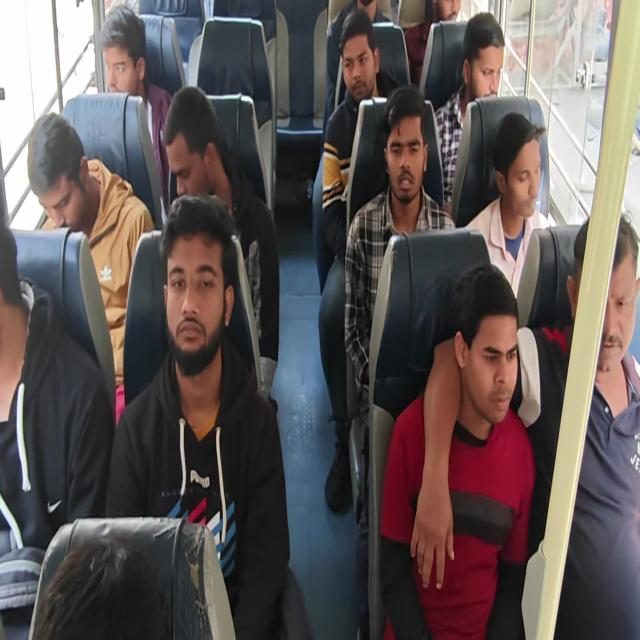person: (2, 1, 638, 638), (422, 209, 640, 639), (104, 192, 291, 638), (343, 84, 456, 637), (379, 262, 535, 638), (542, 210, 640, 639), (318, 8, 400, 511), (27, 111, 155, 425), (162, 85, 280, 410), (0, 222, 115, 551), (322, 9, 401, 259), (464, 112, 552, 300), (98, 3, 174, 218), (32, 536, 170, 639), (434, 11, 505, 211), (321, 0, 394, 146), (404, 0, 461, 89)
